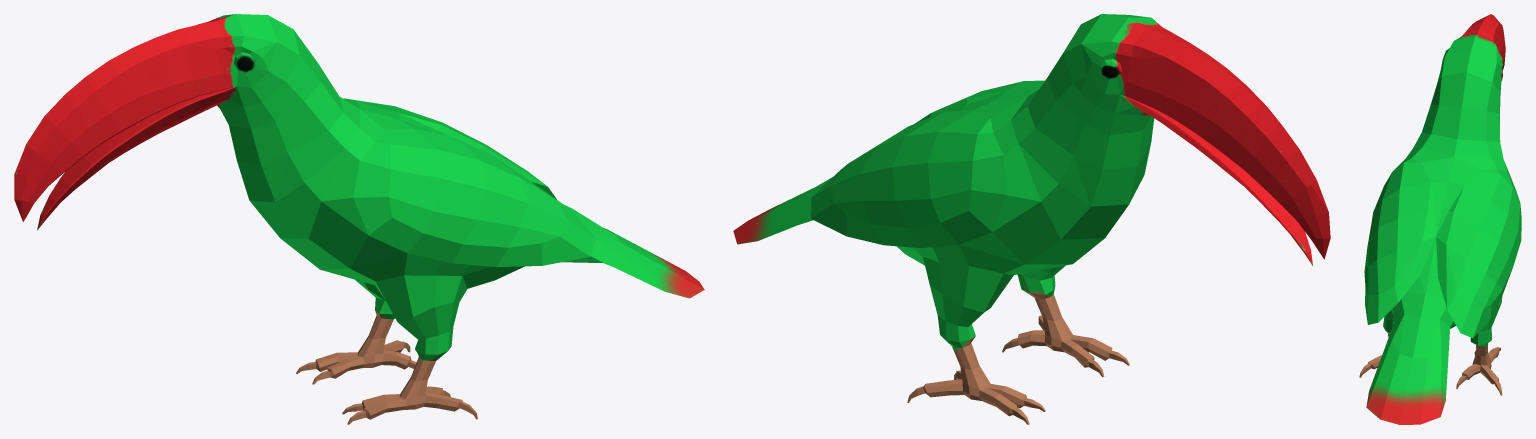
Rendered from tocotoucangreen.glb.
3 views of the same model, side by side, from view 1: azimuth 30°, elevation 25°; view 2: azimuth 150°, elevation 25°; view 3: azimuth 270°, elevation 25° (orthographic). The views are drawn at different scales.
Visible parts, largest first — view 1: node_id4; view 2: node_id4; view 3: node_id4.
Part boxes in pixels (x1=…): node_id4: x1=14, y1=14, x2=704, y2=424; node_id4: x1=733, y1=14, x2=1330, y2=424; node_id4: x1=1359, y1=14, x2=1521, y2=424.
Size of the model in its own units: 0.839 by 0.5158 by 0.261.
Materials: 1 (1 with a texture image).
